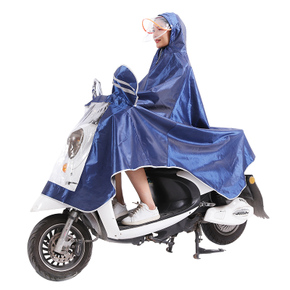电动车: (17, 76, 288, 283)
